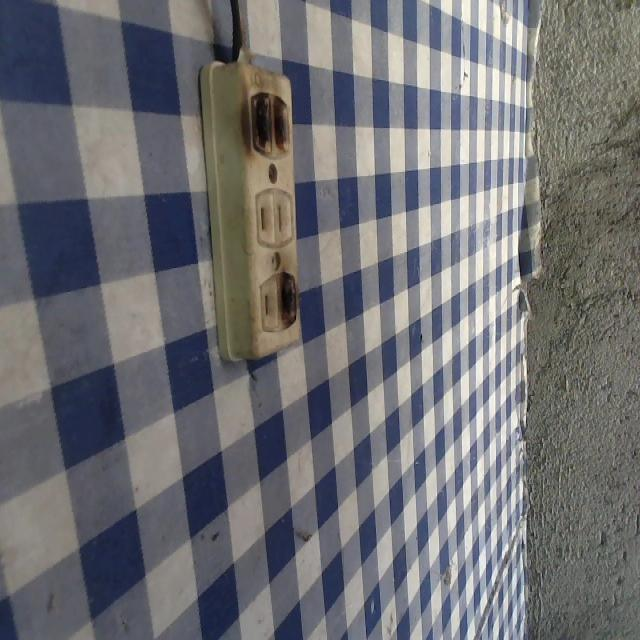-: (238, 86, 299, 158), (278, 267, 300, 333)
